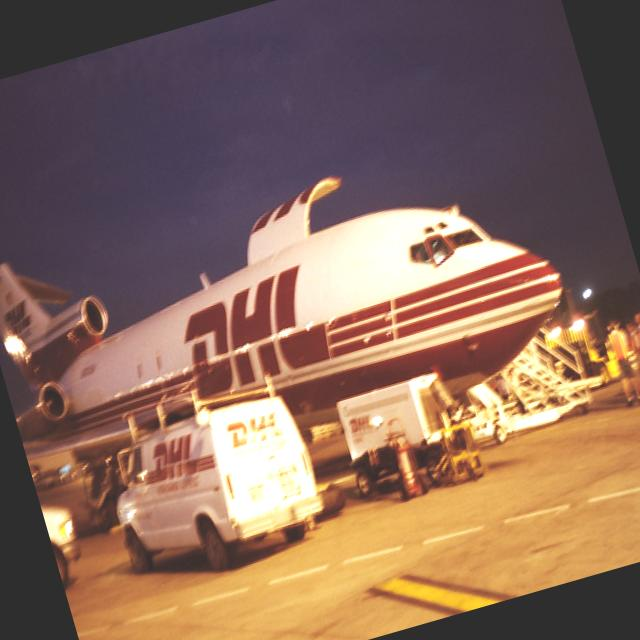Vehicle: (93, 382, 334, 597), (94, 388, 334, 594), (328, 362, 478, 499), (33, 472, 90, 590)
